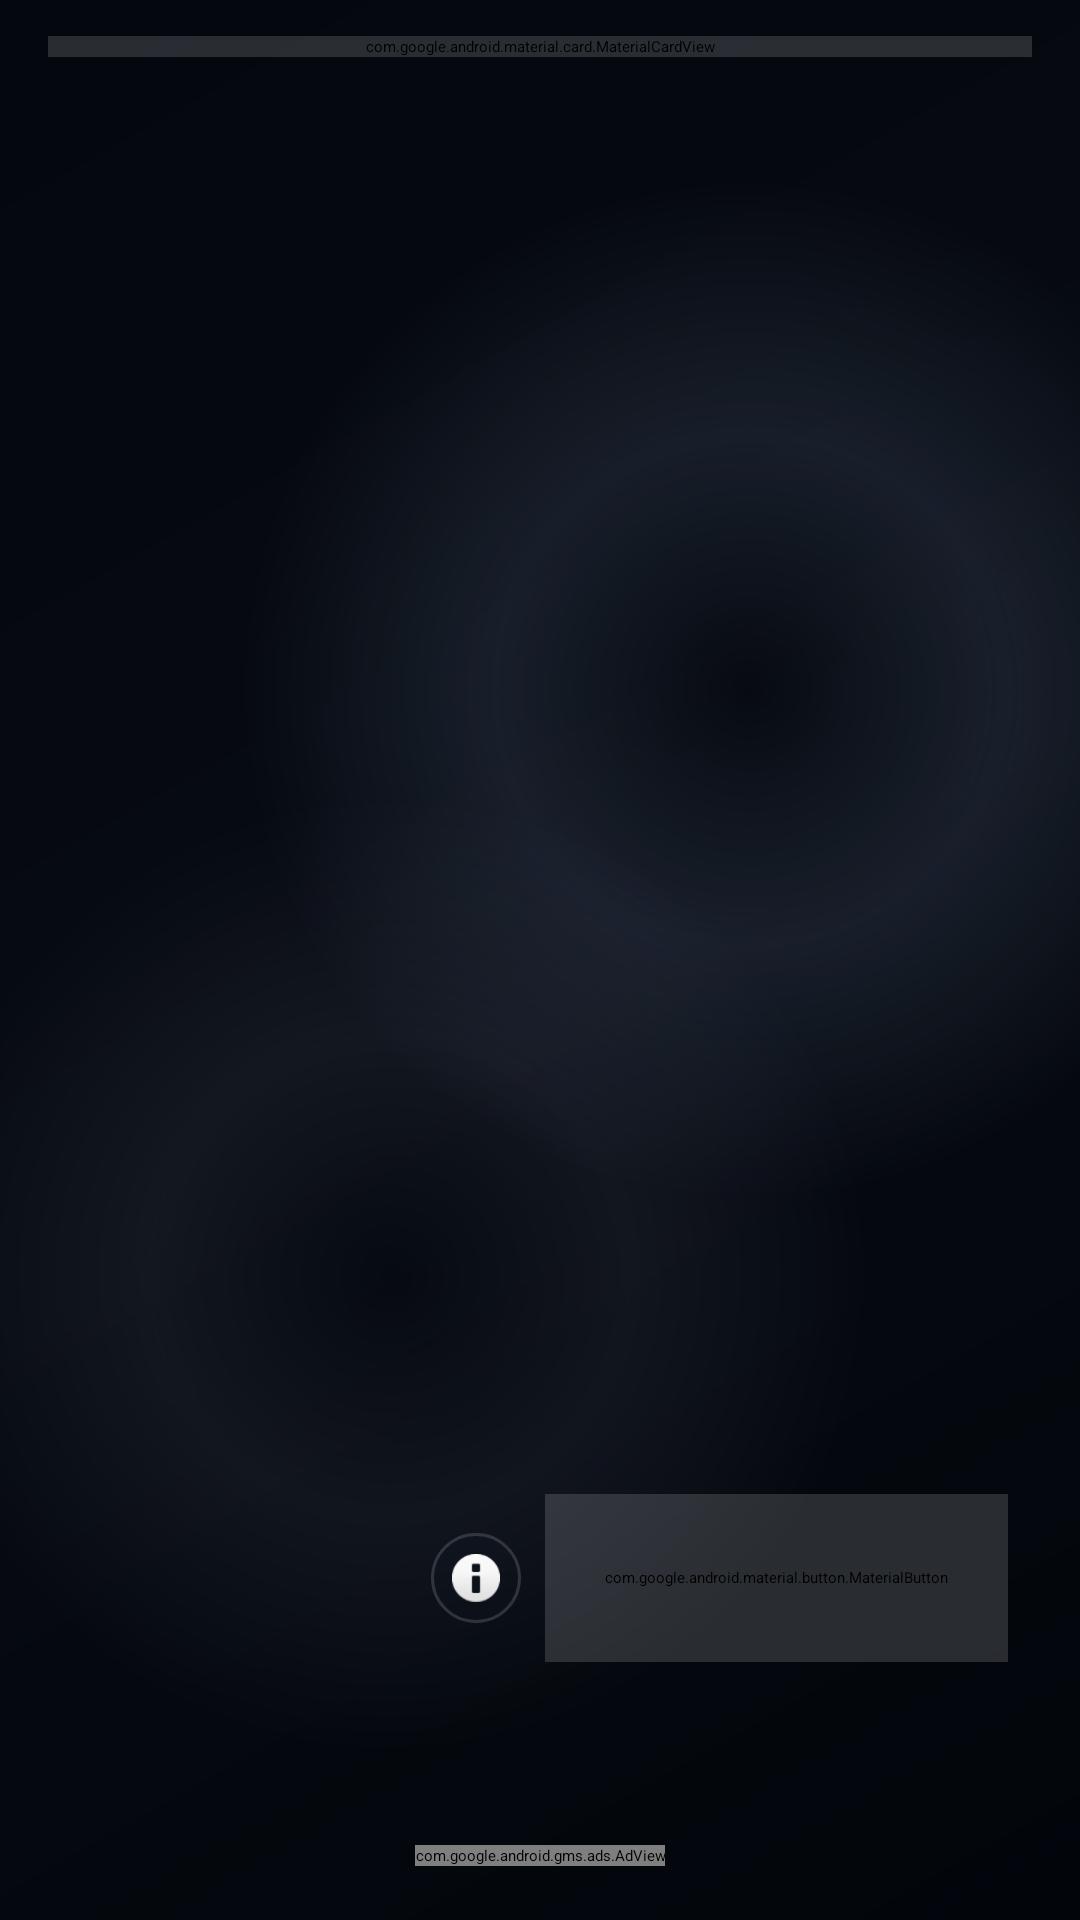

Point at icon controls on the screen. Image size 1080px×1920px, points as [x,y].
New script help: [476,1578]
